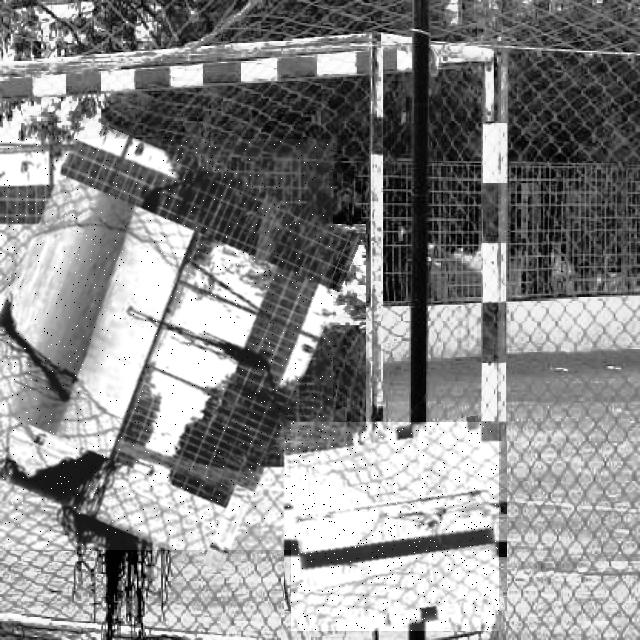anomaly-fence: (0, 139, 333, 550), (291, 422, 499, 631)
